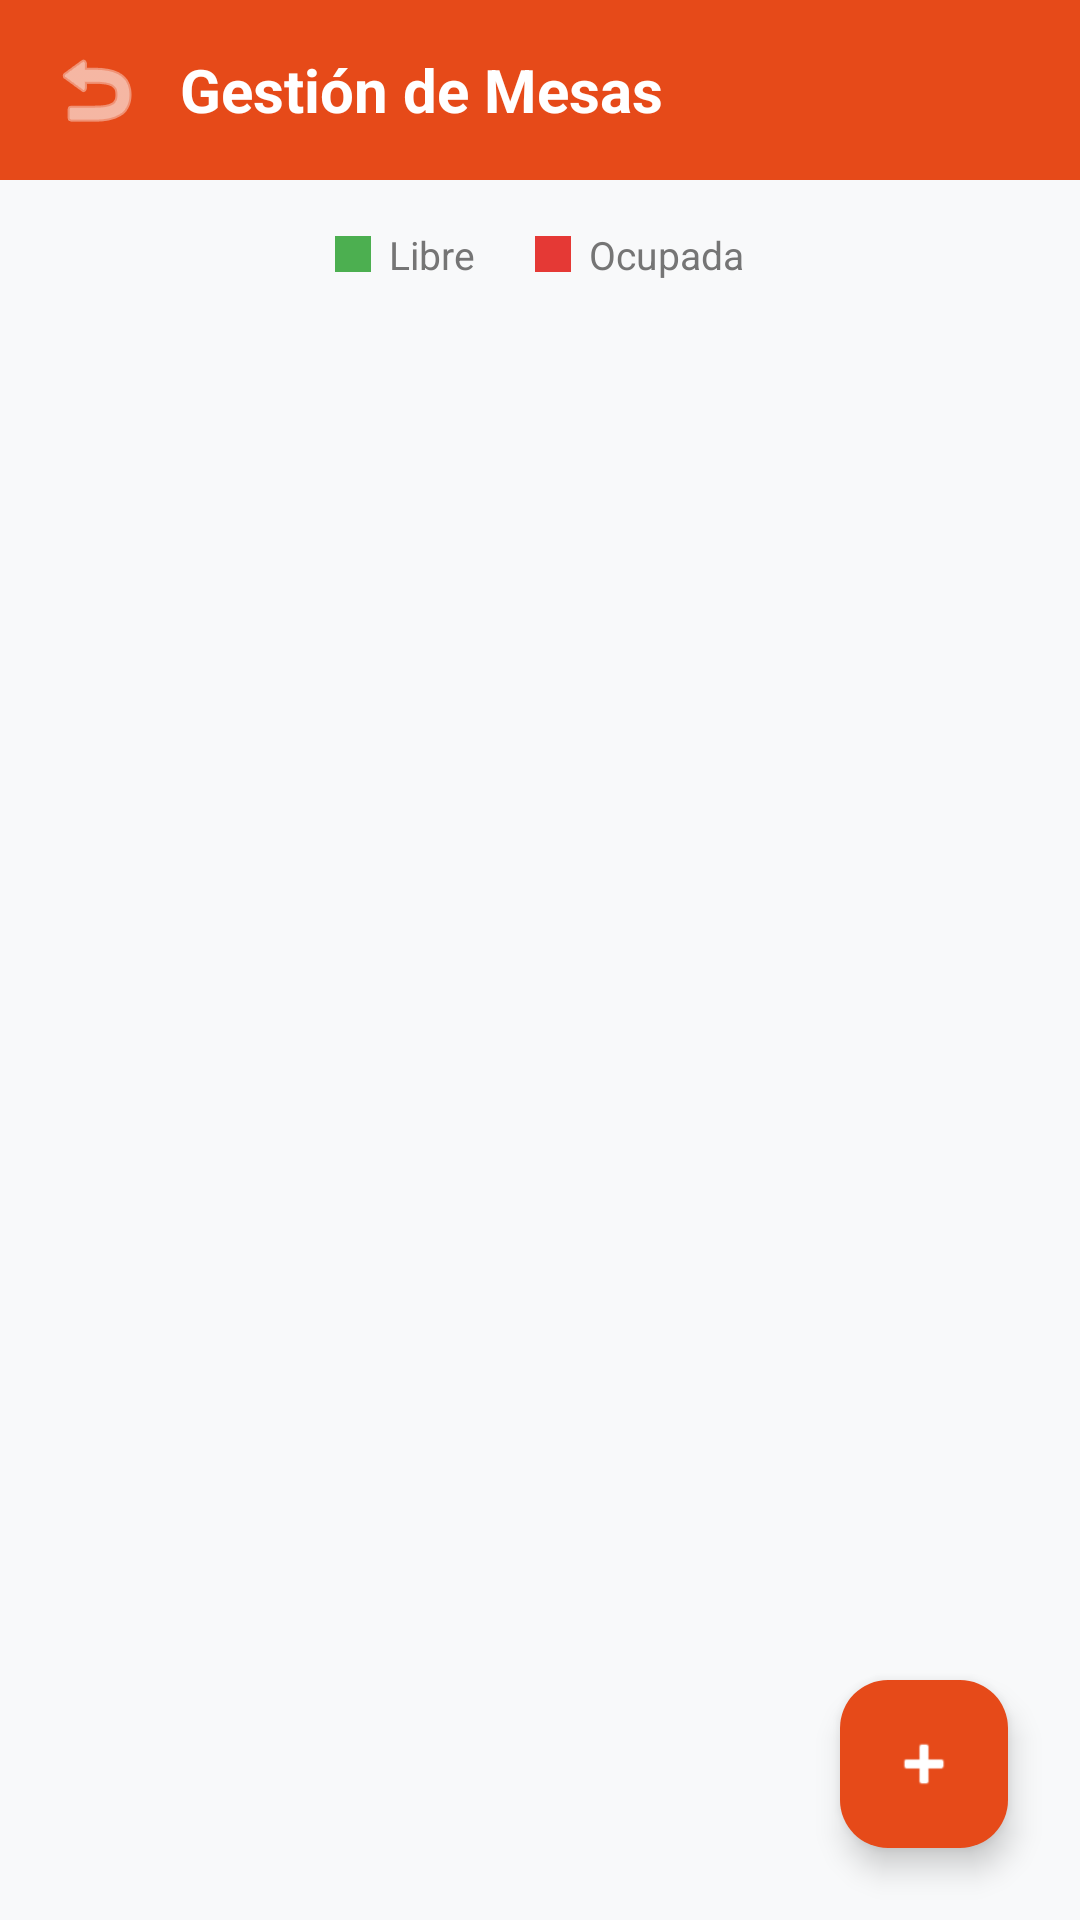

Point at icon controls on the screen. Image size 1080w x 1920h, points as point (x, y).
add: point (924, 1764)
revert: point (97, 90)
